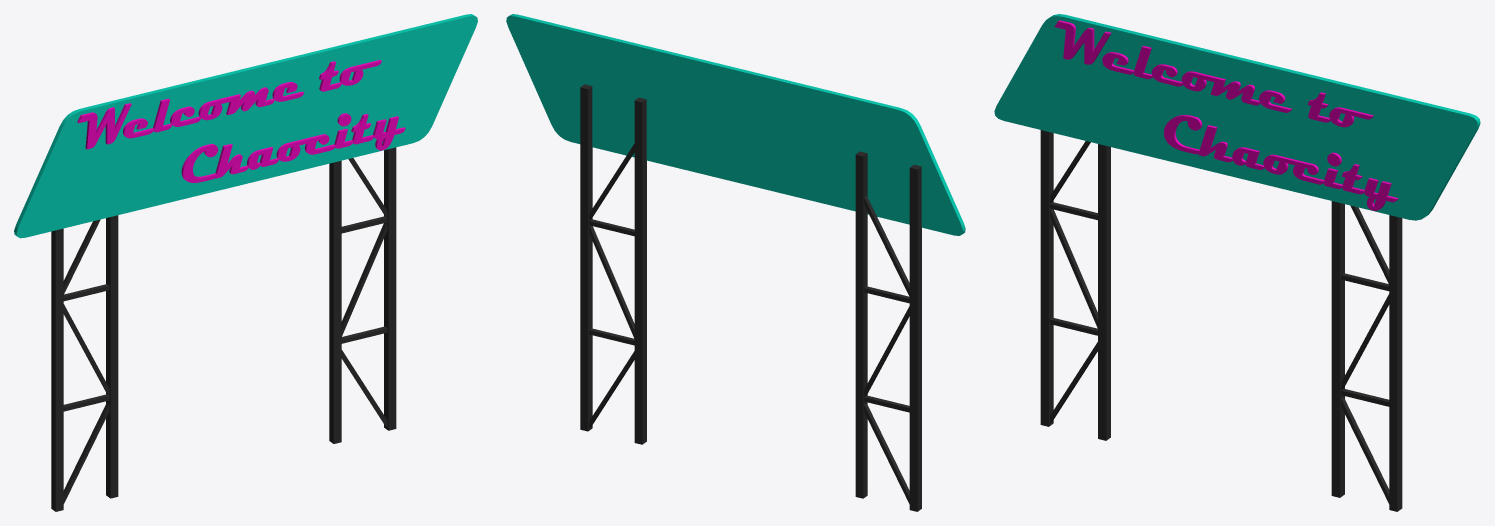
File: Welcome to ChaocityTX.fbx
3 views of the same model, side by side, from view 1: azimuth 30°, elevation 25°; view 2: azimuth 150°, elevation 25°; view 3: azimuth 330°, elevation 25° (orthographic). The views are drawn at different scales.
Visible parts, largest first — view 1: Box006; view 2: Box006; view 3: Box006.
Part boxes in pixels (box(x1,y1,x2,y2)): Box006: box(14, 14, 477, 511); Box006: box(506, 14, 965, 511); Box006: box(994, 14, 1480, 511).
Size of the model in its own units: 585 by 481 by 20.64.
